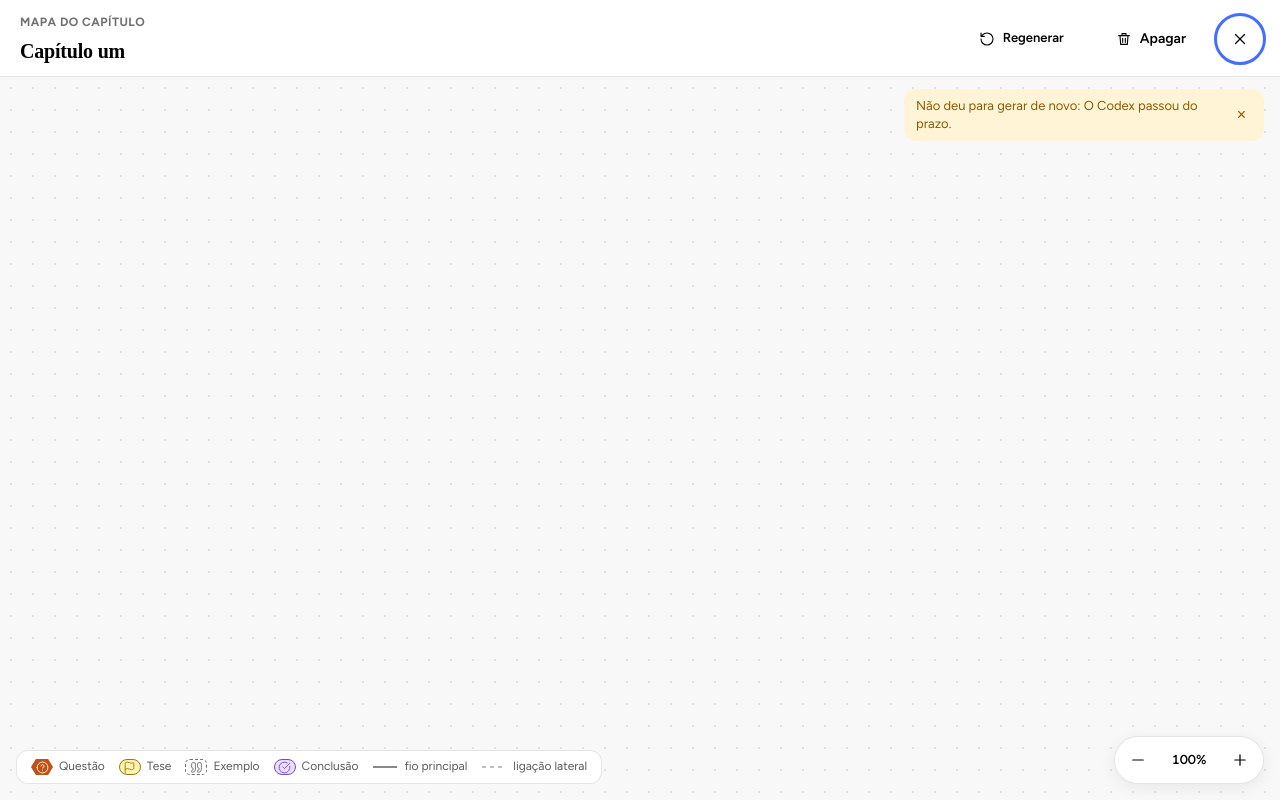
falha ao gerar de novo: o esquema anterior fica, com o aviso dispensável
The width and height of the screenshot is (1280, 800).
Expected: the message shows "O Codex passou do prazo.", [916,98,1198,131]
Click the button named "Dispensar aviso": [1241, 115] box [1231,105,1252,125]
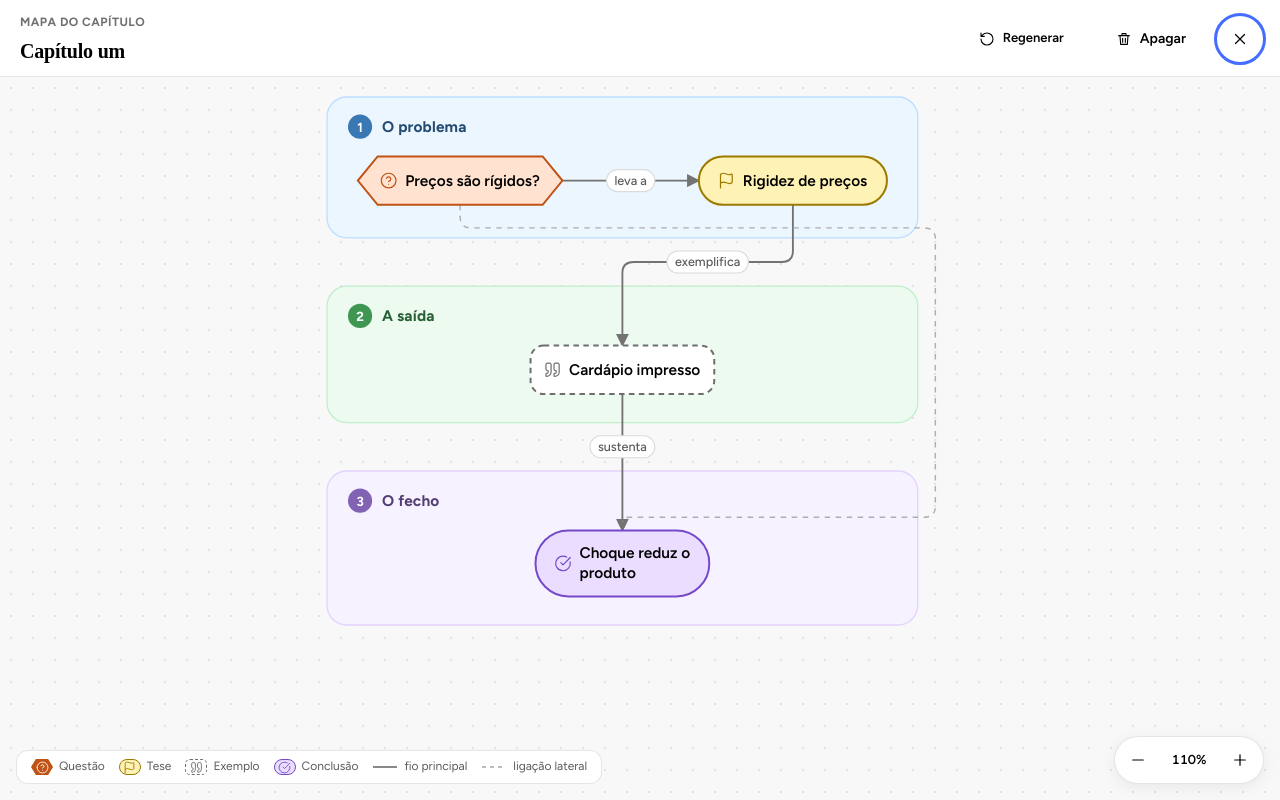
Expected: the button "Questão:" is shown, [381,170,540,189]
Now the message "Não deu para gerar de novo: O Codex passou do prazo. ×" is gone
